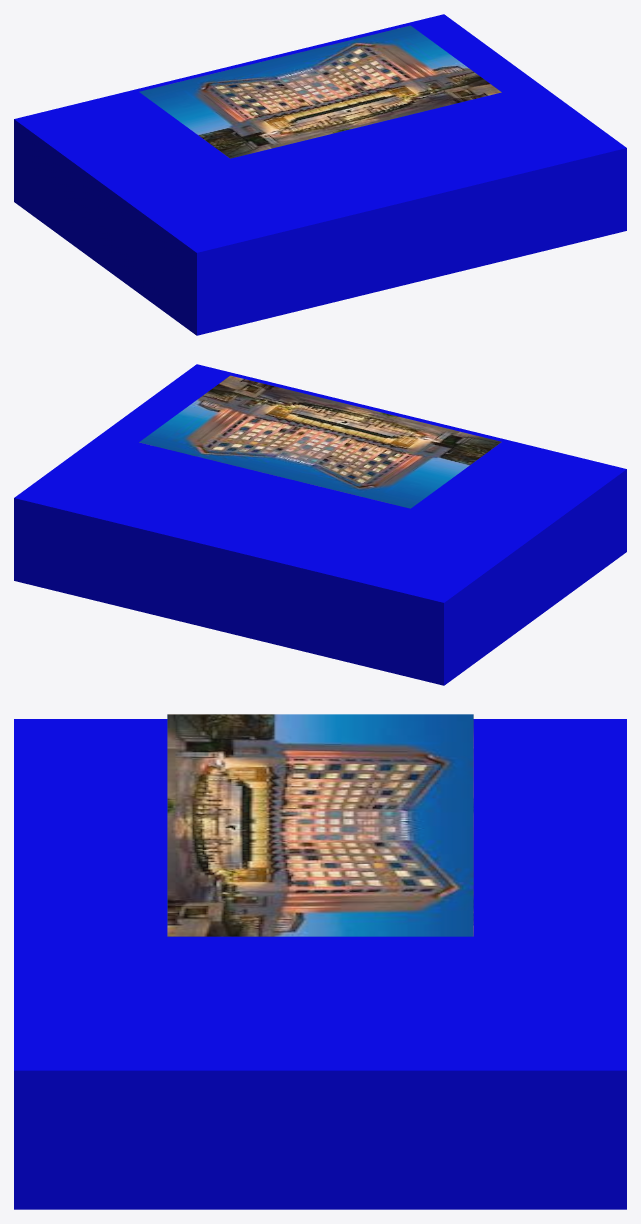
The picture shows the model from 3 angles, top to bottom: view 1: azimuth 30°, elevation 25°; view 2: azimuth 150°, elevation 25°; view 3: azimuth 270°, elevation 25°; orthographic projection. The views are drawn at different scales.
Parts seen in each view (by area): view 1: PhotoBorder, PhotoPlane; view 2: PhotoBorder, PhotoPlane; view 3: PhotoBorder, PhotoPlane.
Part boxes in pixels (left/top/right/bottom): PhotoBorder: left=14, top=14, right=626, bottom=335; PhotoPlane: left=139, top=25, right=501, bottom=158; PhotoBorder: left=14, top=364, right=626, bottom=685; PhotoPlane: left=139, top=375, right=501, bottom=508; PhotoBorder: left=14, top=719, right=626, bottom=1209; PhotoPlane: left=167, top=714, right=473, bottom=936.
Size of the model in its own units: 2.72 by 0.75 by 2.
Materials: 2 (1 with a texture image).
